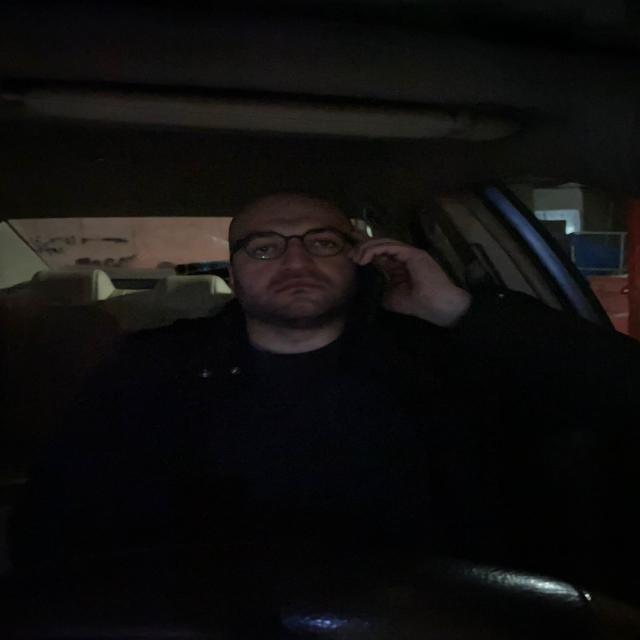phone: (356, 244, 388, 316)
